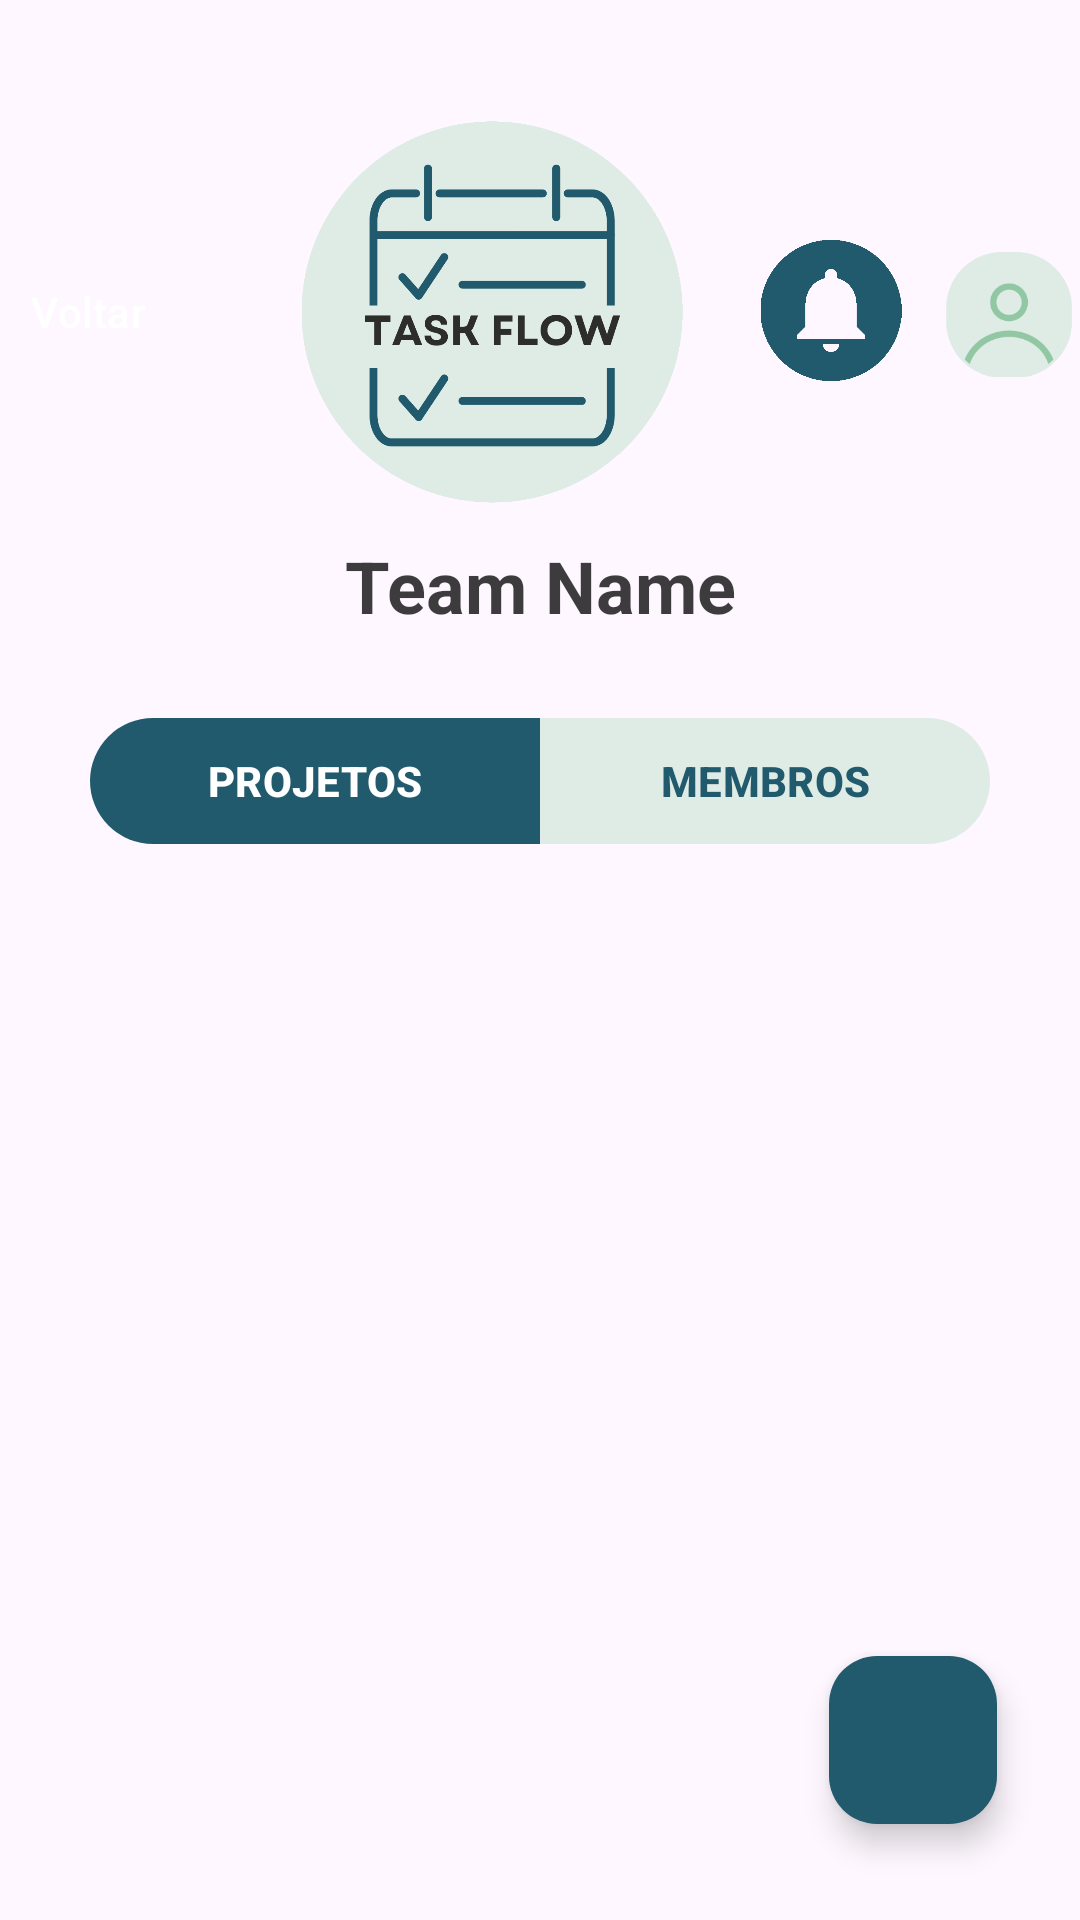

Where icons sit on this 1080×1920 app screen, as [left=x1, top=y1, right=x2, bottom=y2]:
notificationbllue: [left=761, top=240, right=902, bottom=381]
usertype: [left=946, top=252, right=1072, bottom=377]
